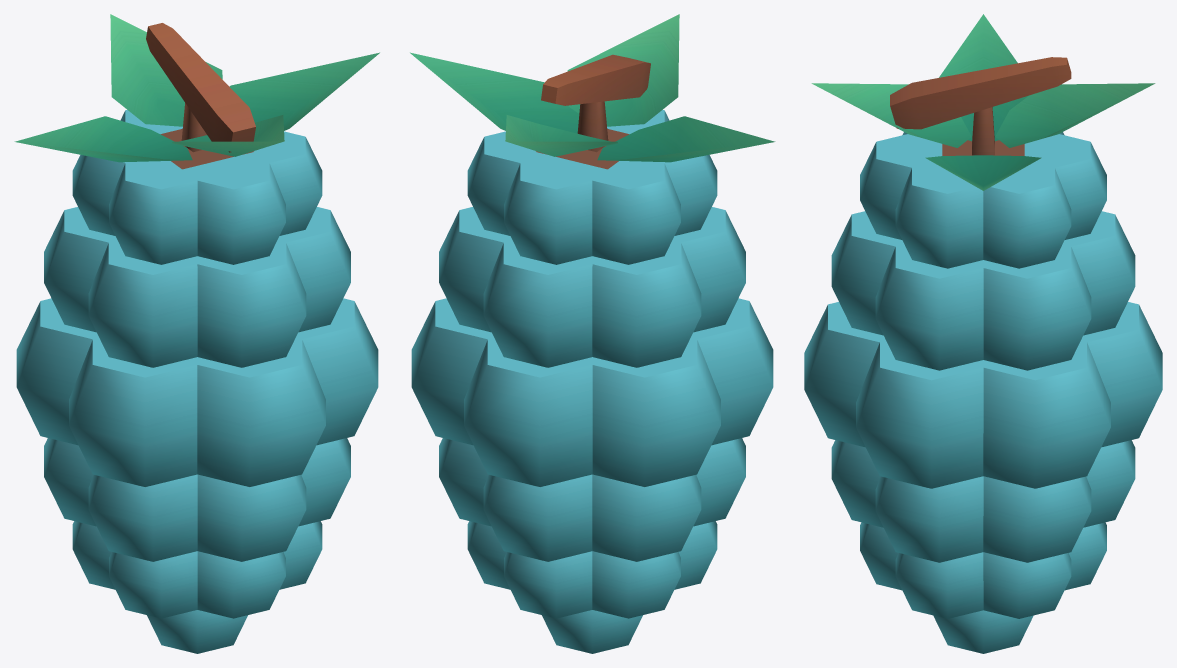
File: grapes.glb
The picture shows the model from 3 angles, left to right: view 1: azimuth 30°, elevation 25°; view 2: azimuth 150°, elevation 25°; view 3: azimuth 270°, elevation 25°; orthographic projection.
Visible parts, largest first — view 1: grapes; view 2: grapes; view 3: grapes.
Part boxes in pixels (x1=…): grapes: x1=14, y1=14, x2=379, y2=653; grapes: x1=410, y1=14, x2=775, y2=653; grapes: x1=804, y1=14, x2=1162, y2=653.
Bounding box in the file's own units: 0.279 × 0.4226 × 0.2386.
1 material, 1 textured.
